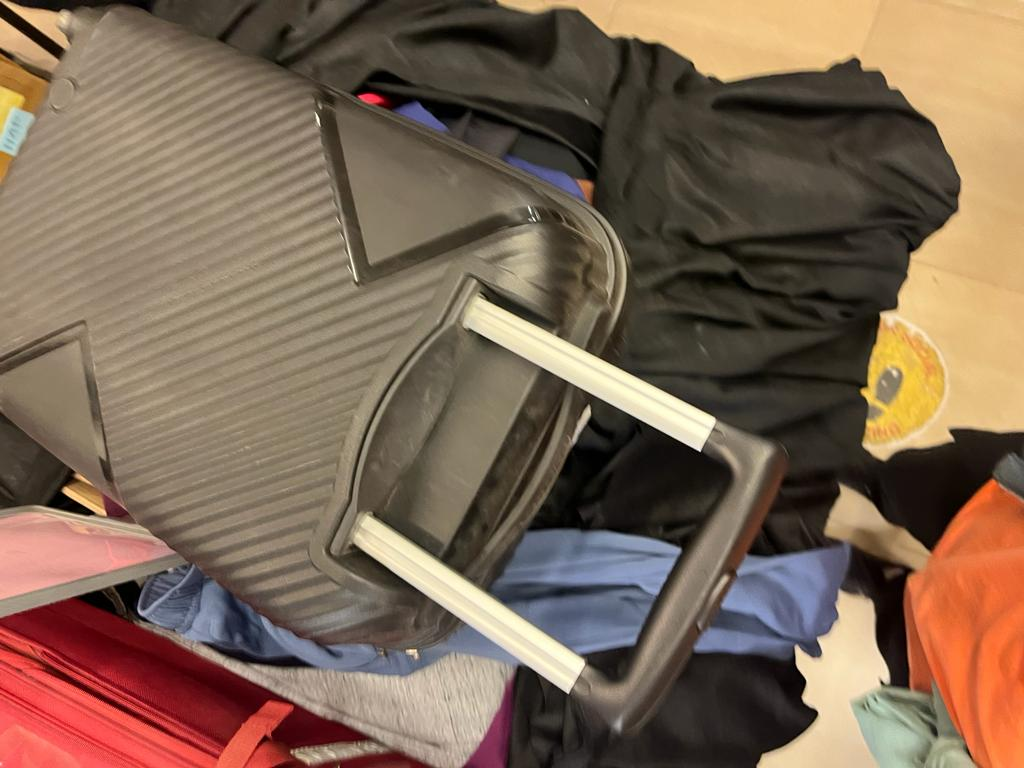Bag: (0, 0, 799, 768)
Handle: (324, 279, 799, 750)
